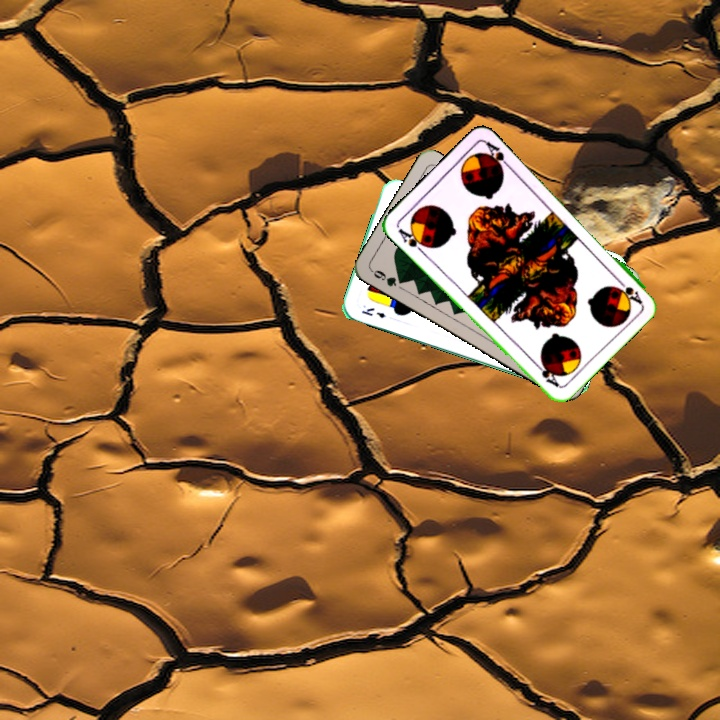EK: (357, 303, 388, 321)
G9: (367, 266, 408, 289)
SA: (393, 224, 431, 256), (612, 274, 644, 307)
